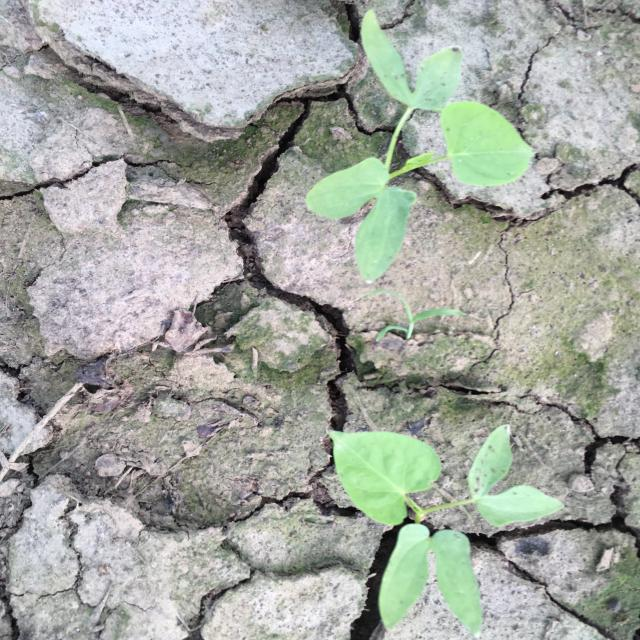MorningGlory: (306, 9, 537, 284), (327, 423, 566, 638)
